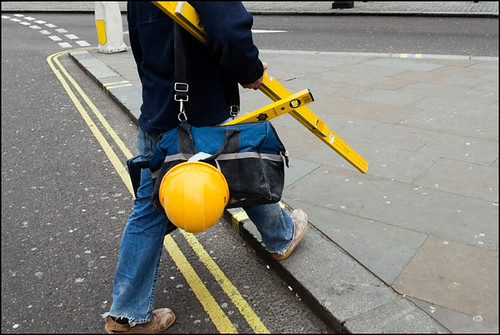hardhat: (152, 150, 244, 249)
